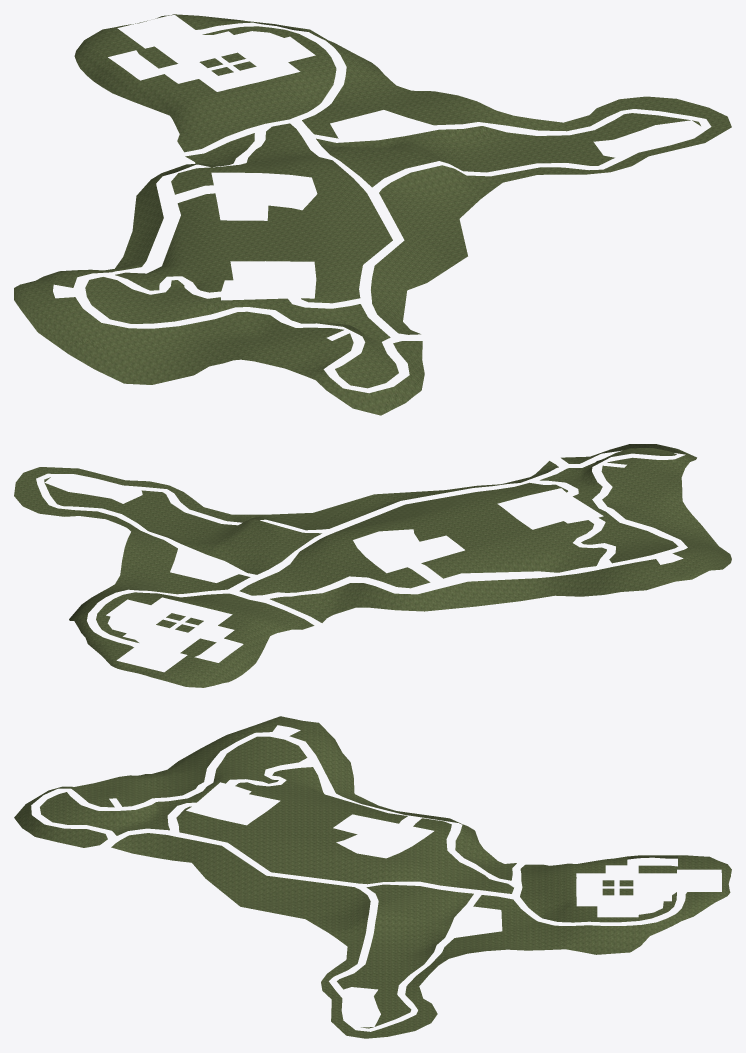
Rendered from grass.obj.
3 renders of one model, top to bottom at view 1: azimuth 30°, elevation 25°; view 2: azimuth 150°, elevation 25°; view 3: azimuth 270°, elevation 25°, orthographic. The views are drawn at different scales.
Visible parts, largest first — view 1: grass; view 2: grass; view 3: grass.
Boxes of the visible parts, bbox=[...] form: grass: bbox=[14, 14, 731, 415]; grass: bbox=[14, 444, 731, 687]; grass: bbox=[14, 716, 731, 1038].
Bounding box in the file's own units: 169 × 9.09 × 172.
1 material, 1 textured.
